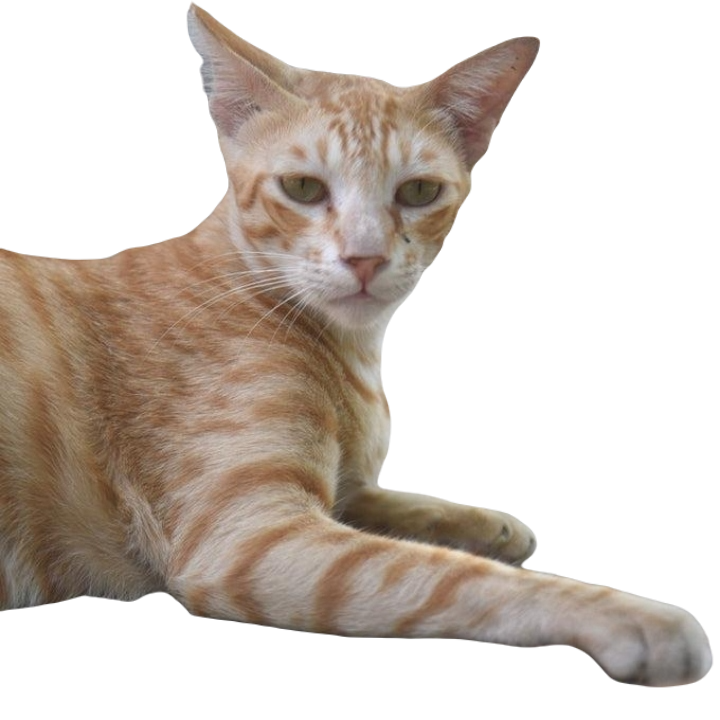Cat: (0, 0, 718, 693)
